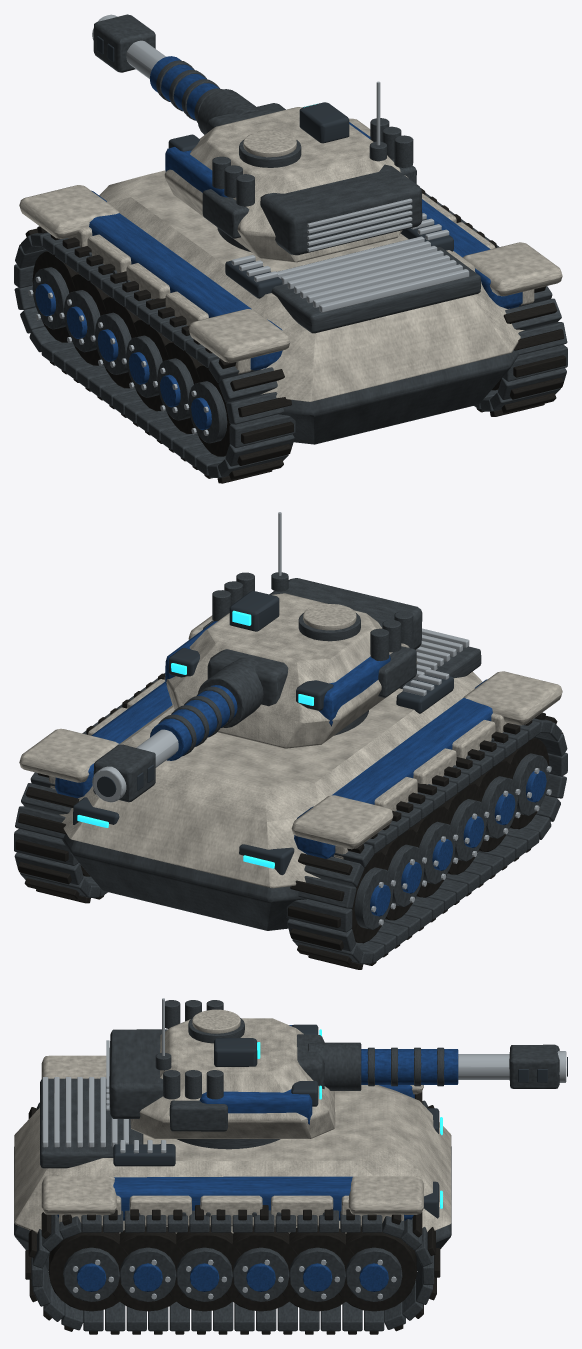
File: Egide.glb
3 renders of one model, top to bottom at view 1: azimuth 30°, elevation 25°; view 2: azimuth 150°, elevation 25°; view 3: azimuth 270°, elevation 25°, orthographic. The views are drawn at different scales.
Visible parts, largest first — view 1: Hull_mesh, TurretYaw_mesh, GunRecoil_mesh, WheelL_0_mesh, WheelL_5_mesh, WheelL_2_mesh, WheelL_3_mesh, WheelL_4_mesh, WheelL_1_mesh, TrackL_38, TrackL_40, TrackR_38 (+8 smaller); view 2: Hull_mesh, TurretYaw_mesh, GunRecoil_mesh, WheelL_0_mesh, WheelL_5_mesh, WheelL_4_mesh, WheelL_3_mesh, WheelL_1_mesh, WheelL_2_mesh, GunPitch_mesh, TrackL_17, TrackR_17 (+8 smaller); view 3: Hull_mesh, TurretYaw_mesh, GunRecoil_mesh, WheelR_0_mesh, WheelR_5_mesh, WheelR_1_mesh, WheelR_3_mesh, WheelR_4_mesh, WheelR_2_mesh, GunPitch_mesh, TrackR_40, TrackR_15 (+36 smaller).
Part boxes in pixels (x1,y1,x2,y2): Hull_mesh: [19, 118, 562, 444]; TurretYaw_mesh: [164, 81, 422, 262]; GunRecoil_mesh: [92, 14, 258, 134]; WheelL_0_mesh: [184, 365, 230, 456]; WheelL_5_mesh: [28, 251, 78, 342]; WheelL_2_mesh: [121, 319, 172, 411]; WheelL_3_mesh: [90, 297, 140, 388]; WheelL_4_mesh: [59, 274, 109, 365]; WheelL_1_mesh: [152, 342, 202, 433]; TrackL_38: [229, 414, 295, 447]; TrackL_40: [218, 367, 284, 402]; TrackR_38: [502, 344, 567, 381]; Hull_mesh: [19, 615, 562, 930]; TurretYaw_mesh: [164, 512, 422, 748]; GunRecoil_mesh: [92, 657, 263, 802]; WheelL_0_mesh: [503, 737, 551, 829]; WheelL_5_mesh: [351, 851, 395, 943]; WheelL_4_mesh: [379, 828, 426, 920]; WheelL_3_mesh: [409, 806, 458, 897]; WheelL_1_mesh: [472, 760, 520, 851]; WheelL_2_mesh: [441, 783, 489, 874]; GunPitch_mesh: [207, 649, 288, 706]; TrackL_17: [286, 899, 352, 932]; TrackR_17: [14, 828, 78, 865]; Hull_mesh: [14, 1055, 451, 1270]; TurretYaw_mesh: [106, 998, 335, 1138]; GunRecoil_mesh: [308, 1042, 567, 1090]; WheelR_0_mesh: [48, 1226, 128, 1311]; WheelR_5_mesh: [337, 1226, 416, 1311]; WheelR_1_mesh: [111, 1226, 184, 1311]; WheelR_3_mesh: [224, 1226, 297, 1311]; WheelR_4_mesh: [281, 1226, 354, 1311]; WheelR_2_mesh: [168, 1226, 241, 1311]; GunPitch_mesh: [297, 1034, 324, 1088]; TrackR_40: [41, 1212, 63, 1251]; TrackR_15: [401, 1212, 422, 1250].
Bounding box in the file's own units: 2.66 × 2.33 × 4.08.
Materials: 8 (4 with a texture image).
